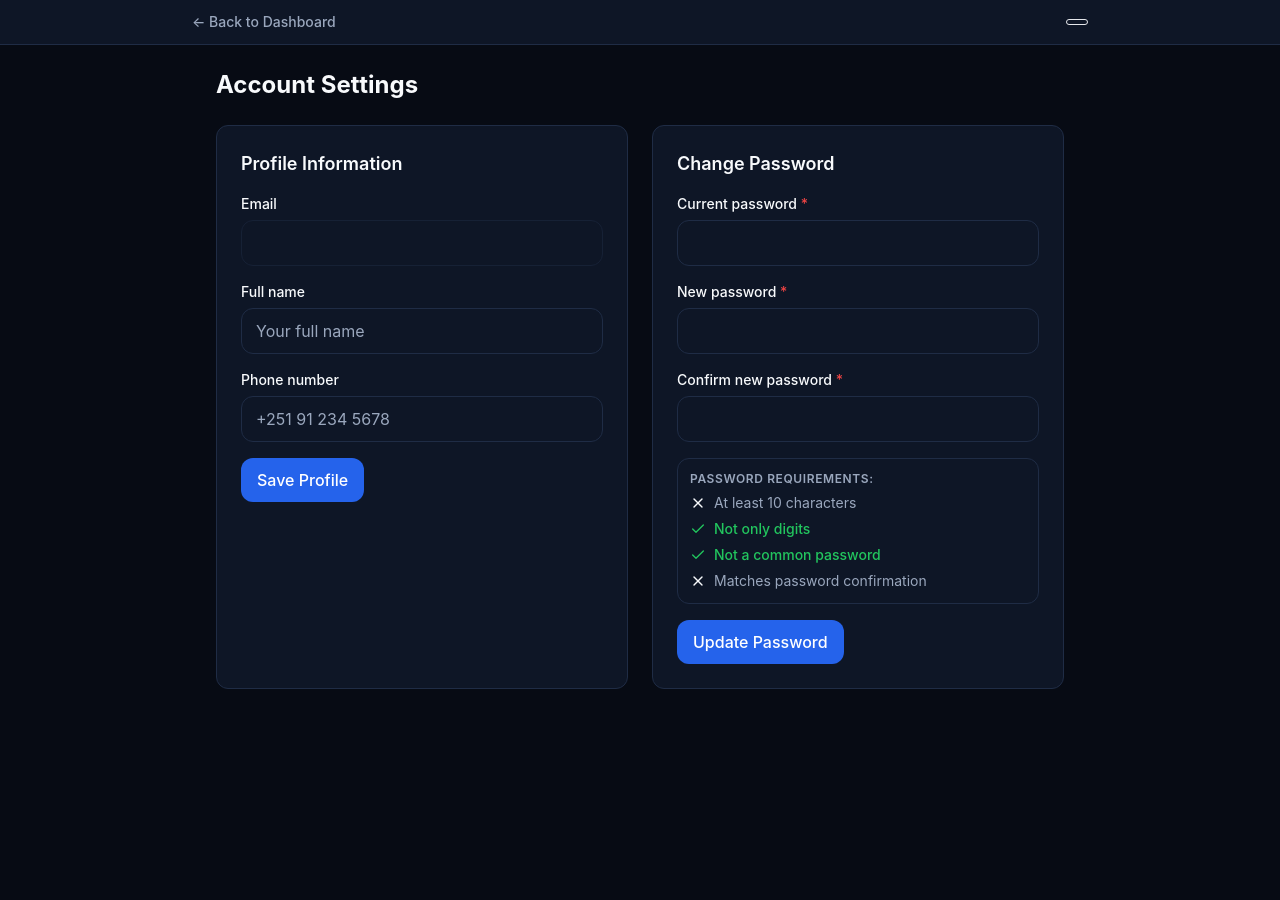
ProfileScreen › allows changing password with current and new passwords
This screenshot has width=1280, height=900.
Expected: the heading "Change Password" is shown, [677,153,834,174]
Type "CurrentSecretPassword123!" into the password field labelled "Current password *".
click(858, 243); type("CurrentSecretPassword123!")  # box [677,220,1039,266]
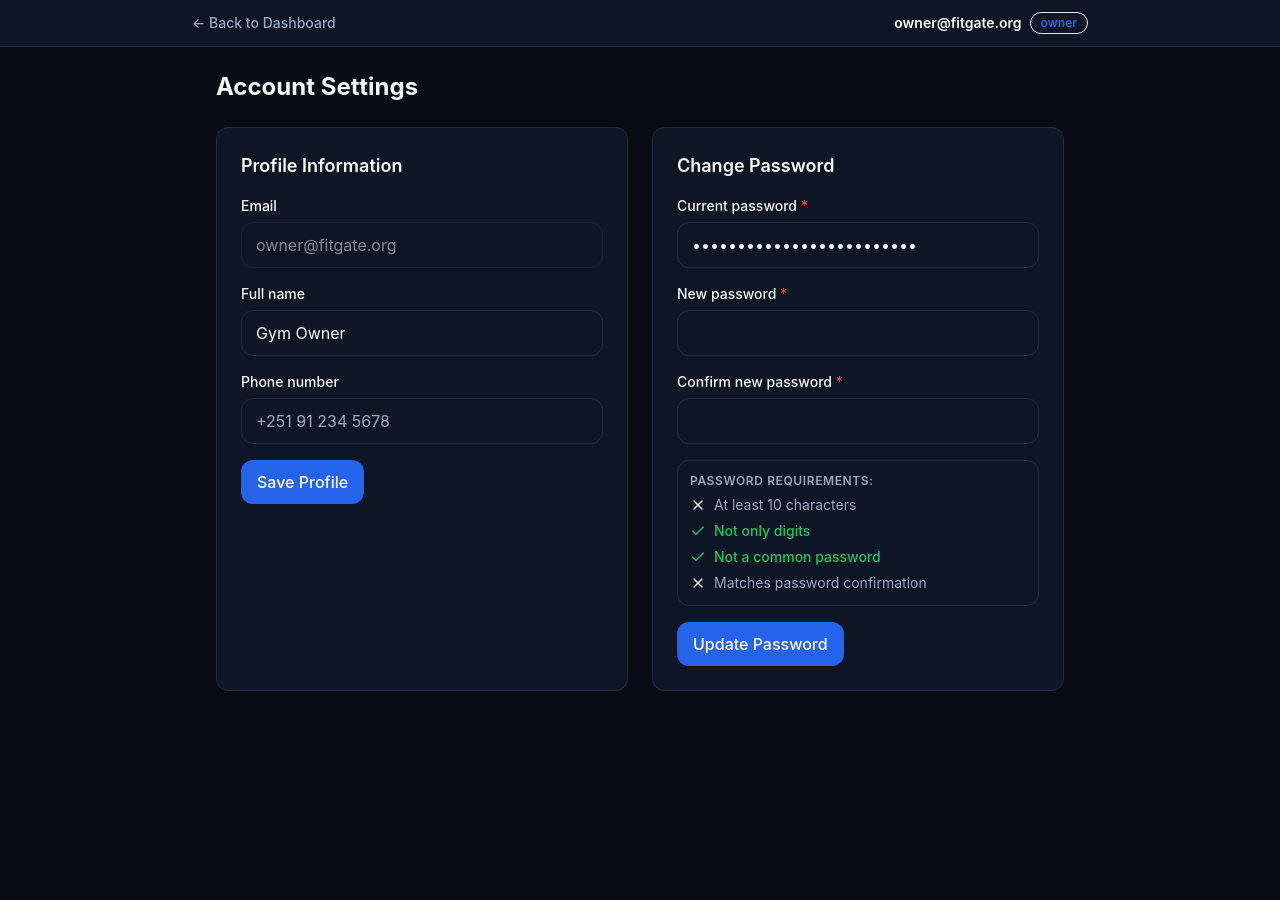
Type "BrandNewSecretPassword123!" into the password field labelled "New password *".
click(858, 333); type("BrandNewSecretPassword123!")  # box [677,310,1039,356]
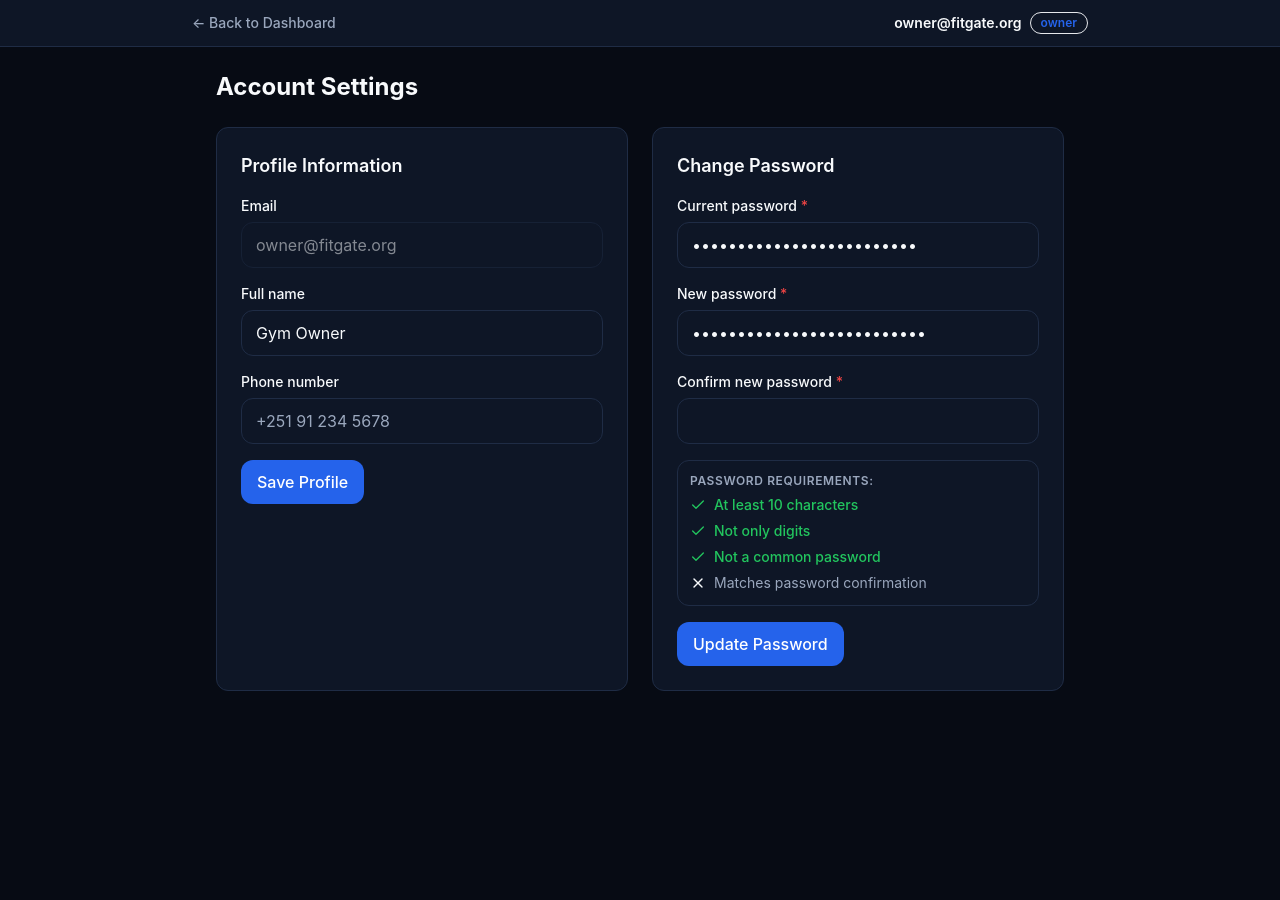
Type "BrandNewSecretPassword123!" into the password field labelled "Confirm new password *".
click(858, 421); type("BrandNewSecretPassword123!")  # box [677,398,1039,444]
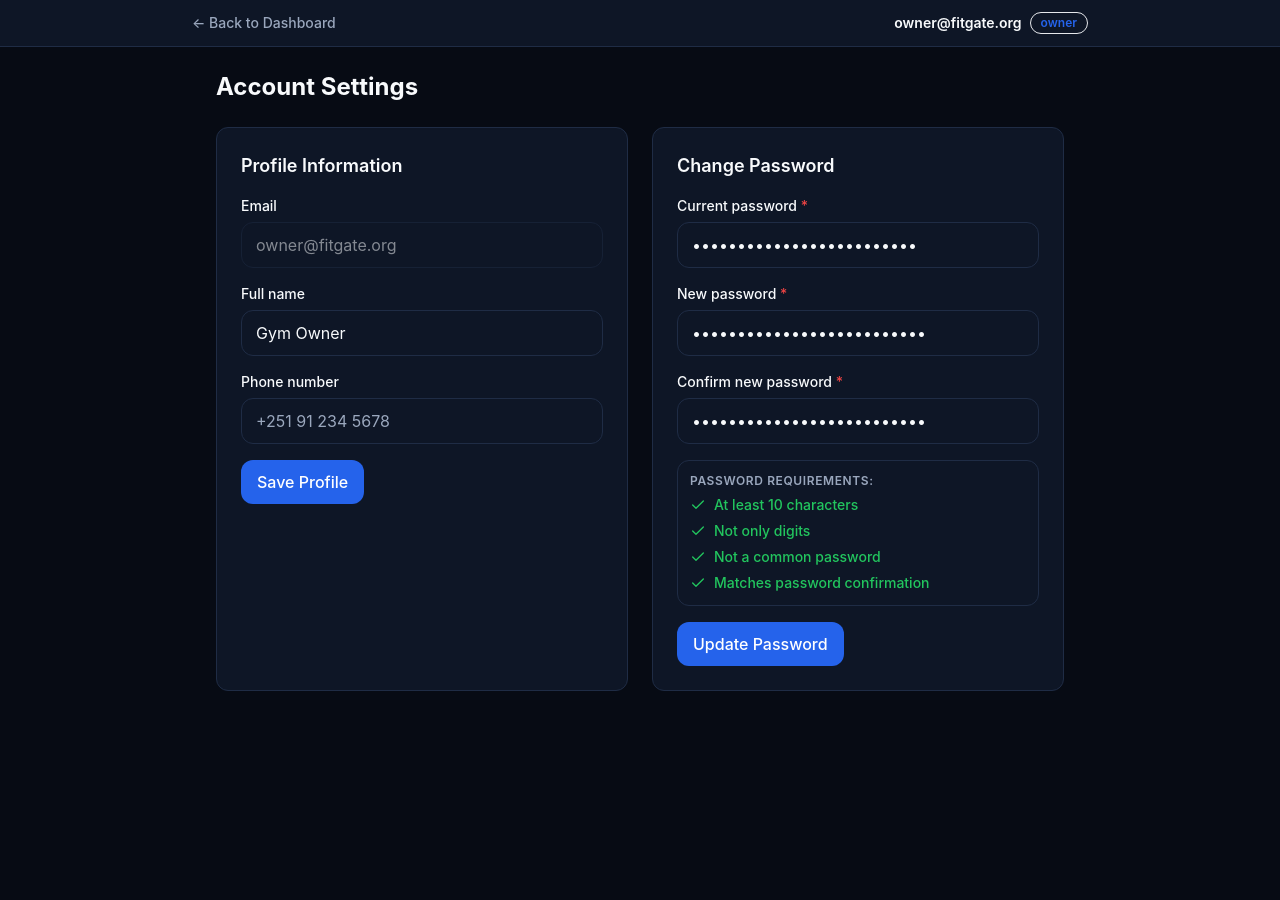
Click the button "Update Password".
click(760, 644)  # box [677,622,844,666]
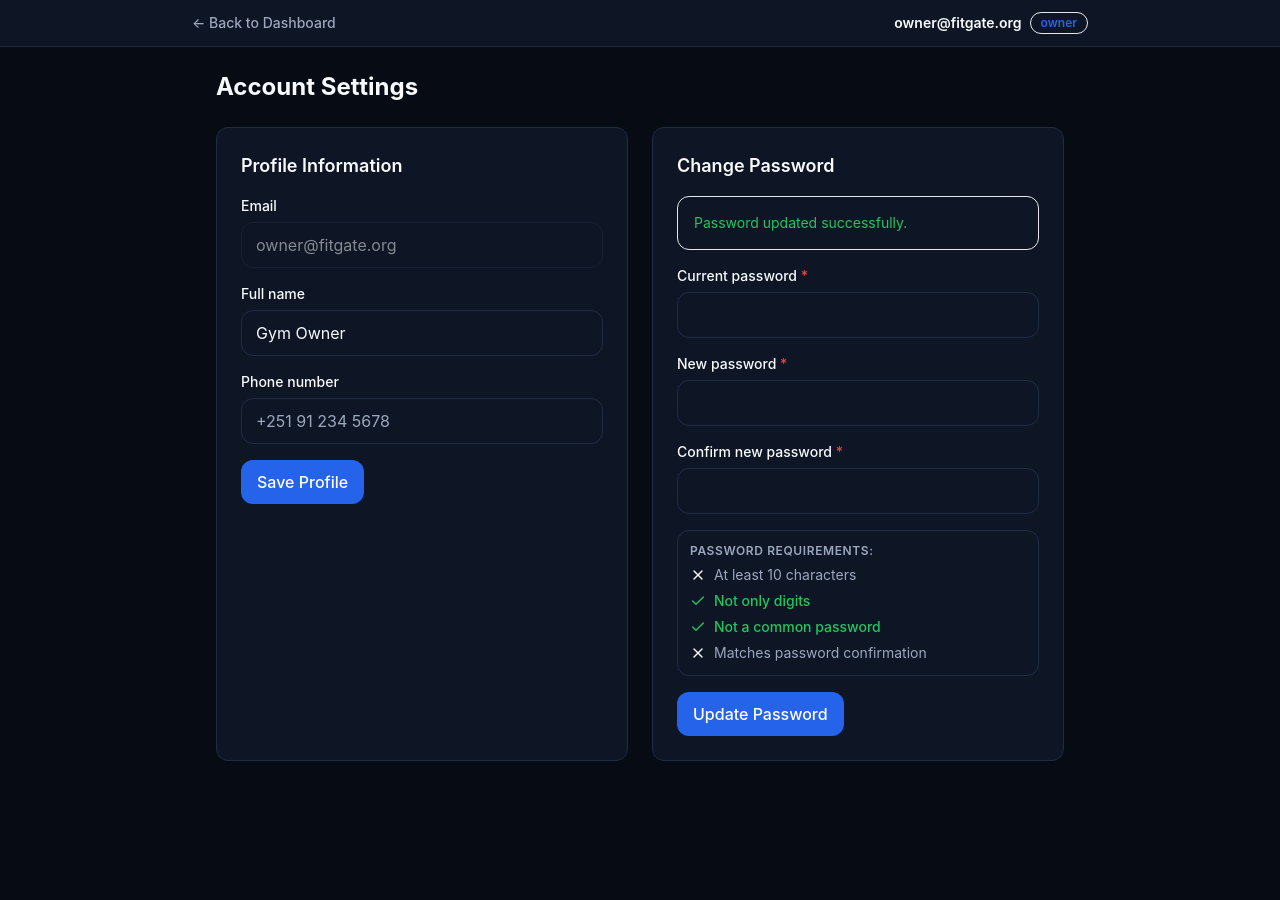
Now the text "Password updated successfully." is shown, box [694,214,907,231]
